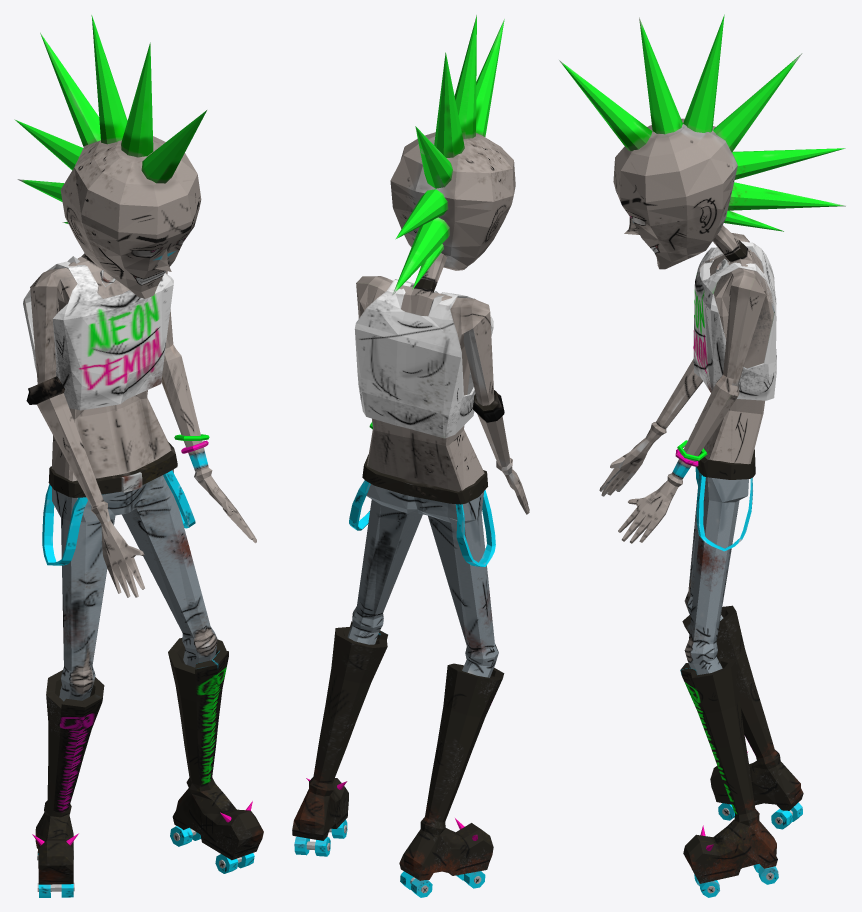
Rendered from punkAnimation_000028.obj.
3 renders of one model, left to right at view 1: azimuth 30°, elevation 25°; view 2: azimuth 150°, elevation 25°; view 3: azimuth 270°, elevation 25°, orthographic. The views are drawn at different scales.
Visible parts, largest first — view 1: Cube.004_Cube.003; view 2: Cube.004_Cube.003; view 3: Cube.004_Cube.003.
Boxes of the visible parts, box(x1,y1,x2,y2) form: Cube.004_Cube.003: box(14, 15, 263, 897); Cube.004_Cube.003: box(292, 15, 529, 897); Cube.004_Cube.003: box(559, 14, 845, 897).
Size of the model in its own units: 1.93 by 7.44 by 2.38.
